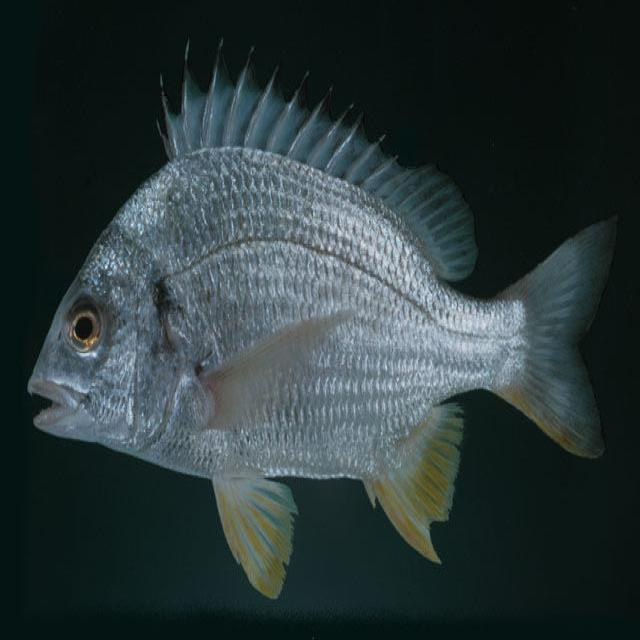ikan: (26, 34, 618, 600)
